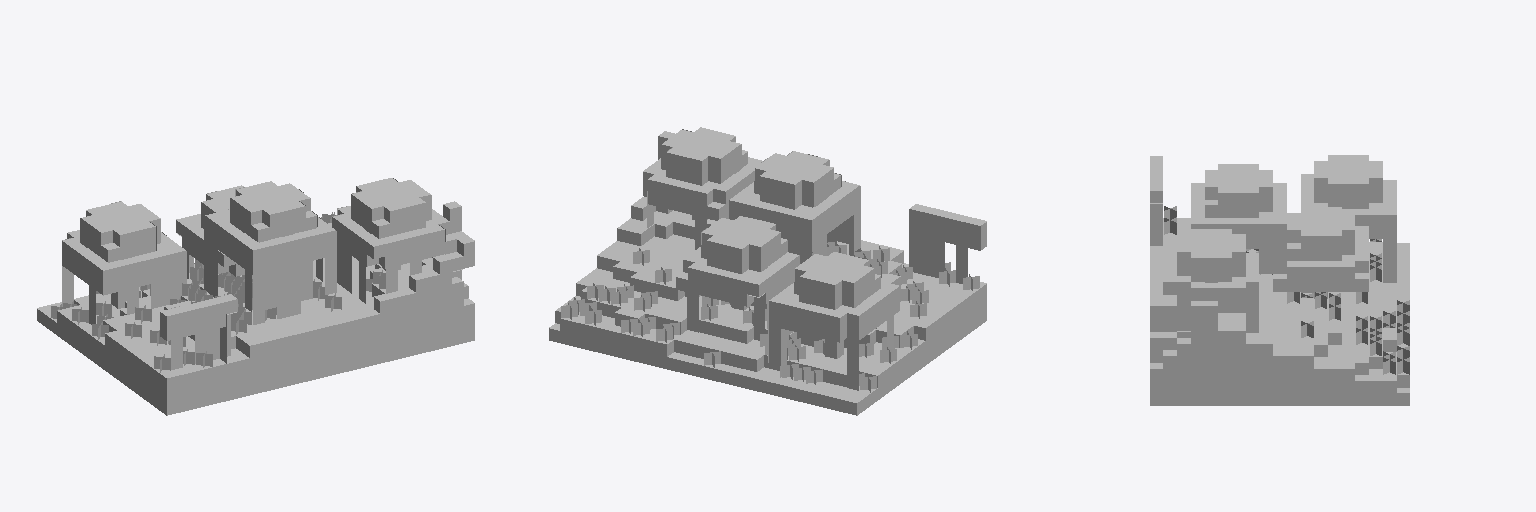
The model's file is level1.obj.
3 renders of one model, left to right at view 1: azimuth 30°, elevation 25°; view 2: azimuth 150°, elevation 25°; view 3: azimuth 270°, elevation 25°, orthographic.
Visible parts, largest first — view 1: unity3d__-31_64_382_to_-6_255_400; view 2: unity3d__-31_64_382_to_-6_255_400; view 3: unity3d__-31_64_382_to_-6_255_400.
Part boxes in pixels (x1,y1,x2,y2): unity3d__-31_64_382_to_-6_255_400: (37, 178, 474, 415); unity3d__-31_64_382_to_-6_255_400: (549, 127, 986, 415); unity3d__-31_64_382_to_-6_255_400: (1150, 155, 1409, 405).
Size of the model in its own units: 26 by 12 by 19.